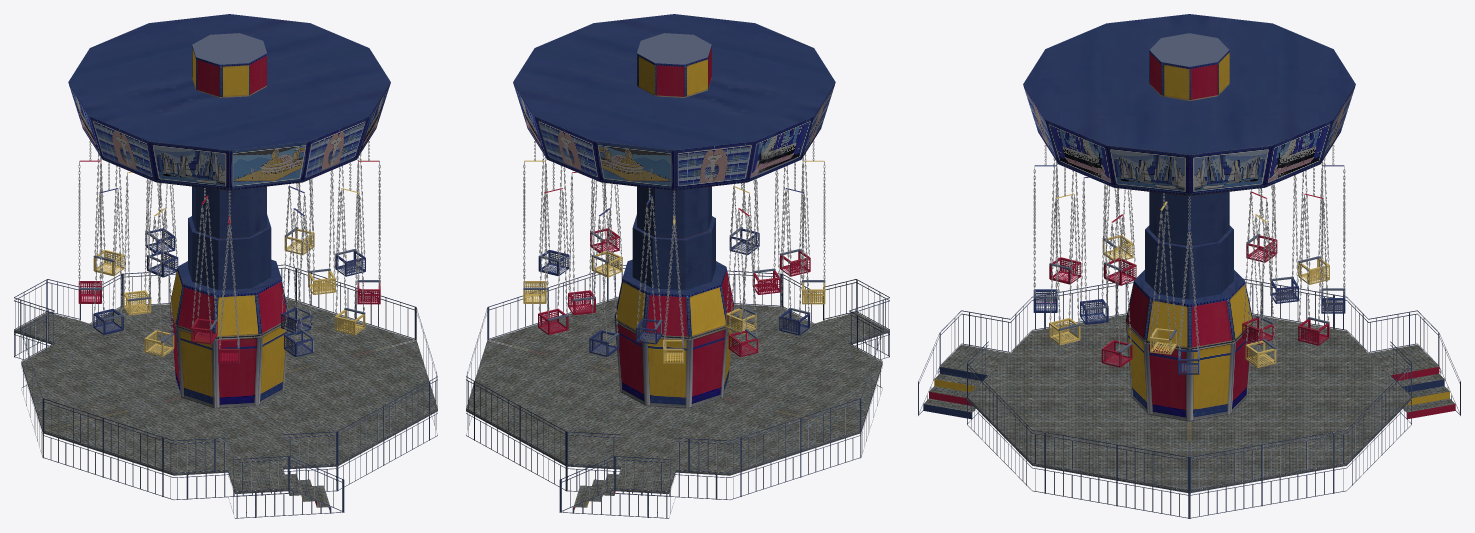
File: SwingCarousel01.obj
3 renders of one model, left to right at view 1: azimuth 30°, elevation 25°; view 2: azimuth 150°, elevation 25°; view 3: azimuth 270°, elevation 25°, orthographic. The views are drawn at different scales.
Visible parts, largest first — view 1: Platform, Upper, Arm, SwingCarousel01.Swing.003, SwingCarousel01.Swing.011, SwingCarousel01.Swing.002, SwingCarousel01.Swing, SwingCarousel01.Swing.015, SwingCarousel01.Swing.017, SwingCarousel01.Swing.023, SwingCarousel01.Swing.013, SwingCarousel01.Swing.005 (+7 smaller); view 2: Platform, Upper, Arm, SwingCarousel01.Swing.007, SwingCarousel01.Swing.003, SwingCarousel01.Swing.006, SwingCarousel01.Swing.004, SwingCarousel01.Swing.019, SwingCarousel01.Swing.021, SwingCarousel01.Swing.015, SwingCarousel01.Swing.017, SwingCarousel01.Swing.009 (+7 smaller); view 3: Platform, Upper, Arm, SwingCarousel01.Swing.011, SwingCarousel01.Swing.008, SwingCarousel01.Swing.010, SwingCarousel01.Swing.007, SwingCarousel01.Swing.023, SwingCarousel01.Swing.013, SwingCarousel01.Swing.019, SwingCarousel01.Swing.021, SwingCarousel01.Swing.001 (+7 smaller).
Part boxes in pixels (x1,y1,x2,y2): Platform: (14,259,437,518); Upper: (68,14,390,190); Arm: (188,186,271,290); SwingCarousel01.Swing.003: (93,162,123,334); SwingCarousel01.Swing.011: (334,163,365,335); SwingCarousel01.Swing.002: (144,183,174,356); SwingCarousel01.Swing: (284,183,313,356); SwingCarousel01.Swing.015: (191,188,217,344); SwingCarousel01.Swing.017: (123,172,151,315); SwingCarousel01.Swing.023: (308,170,335,294); SwingCarousel01.Swing.013: (281,183,312,334); SwingCarousel01.Swing.005: (93,153,124,276); Platform: (466,259,889,518); Upper: (513,14,835,190); Arm: (632,186,715,290); SwingCarousel01.Swing.007: (538,162,568,334); SwingCarousel01.Swing.003: (779,162,810,335); SwingCarousel01.Swing.006: (589,183,619,356); SwingCarousel01.Swing.004: (728,183,758,356); SwingCarousel01.Swing.019: (636,188,662,344); SwingCarousel01.Swing.021: (568,172,595,315); SwingCarousel01.Swing.015: (752,170,780,294); SwingCarousel01.Swing.017: (725,183,756,334); SwingCarousel01.Swing.009: (538,153,569,276); Platform: (918,270,1460,518); Upper: (1023,14,1355,196); Arm: (1145,192,1233,299); SwingCarousel01.Swing.011: (1049,167,1080,345); SwingCarousel01.Swing.008: (1245,188,1276,367); SwingCarousel01.Swing.010: (1101,188,1132,367); SwingCarousel01.Swing.007: (1298,167,1329,345); SwingCarousel01.Swing.023: (1150,193,1176,354); SwingCarousel01.Swing.013: (1080,177,1108,324); SwingCarousel01.Swing.019: (1270,175,1298,303); SwingCarousel01.Swing.021: (1242,188,1274,344); SwingCarousel01.Swing.001: (1049,158,1080,284).
Size of the model in its own units: 17.64 by 16.4 by 21.52.
